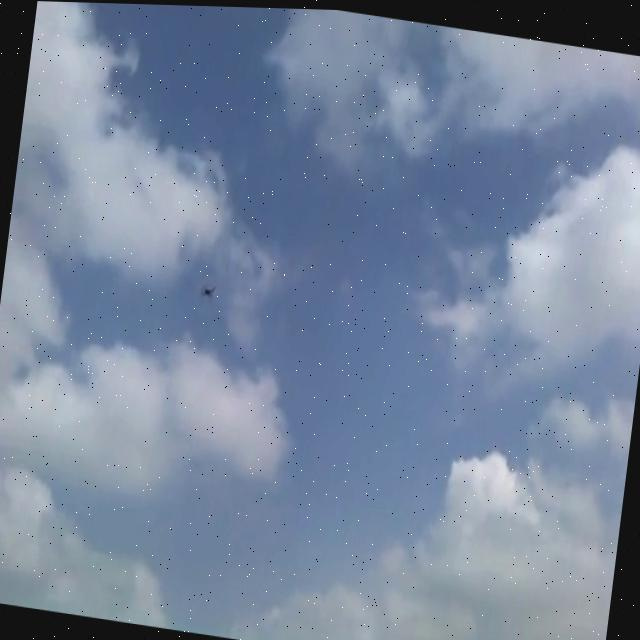drone: (197, 273, 218, 303)
